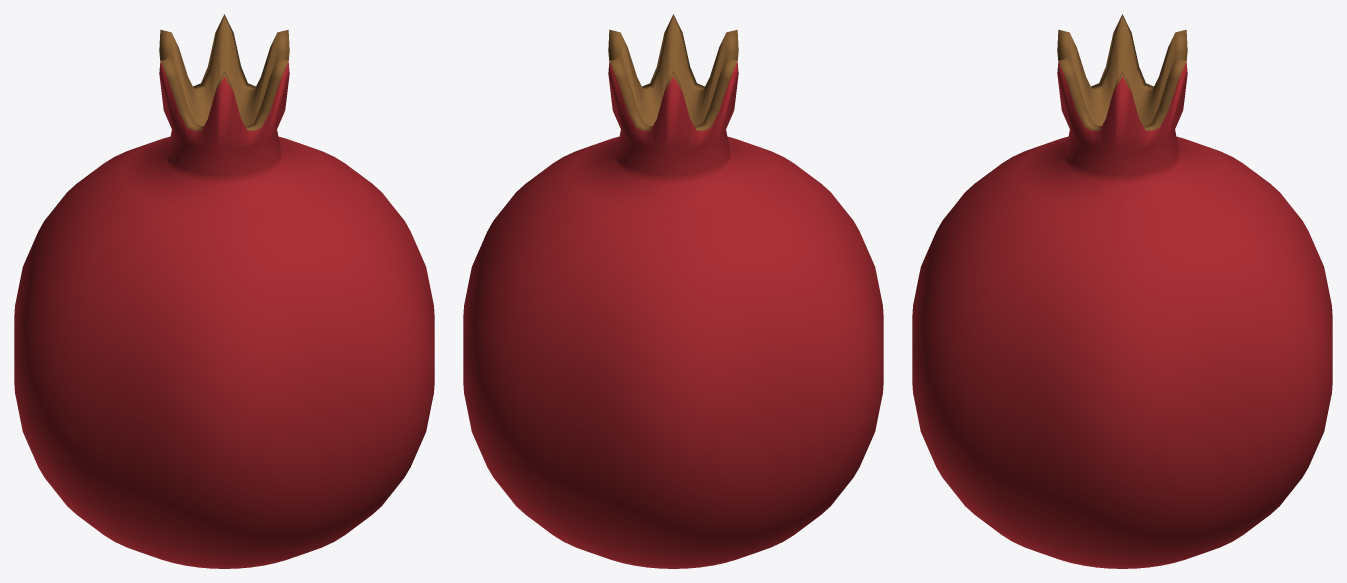
Rendered from NEW_RECOVERY_094_LOD0.glb.
3 renders of one model, left to right at view 1: azimuth 30°, elevation 25°; view 2: azimuth 150°, elevation 25°; view 3: azimuth 270°, elevation 25°, orthographic.
Parts seen in each view (by area): view 1: Pomegranate; view 2: Pomegranate; view 3: Pomegranate.
Part boxes in pixels (<box>): Pomegranate: <box>14,14,434,568</box>; Pomegranate: <box>463,14,883,568</box>; Pomegranate: <box>912,14,1332,568</box>.
Size of the model in its own units: 0.1027 by 0.126 by 0.0965.
